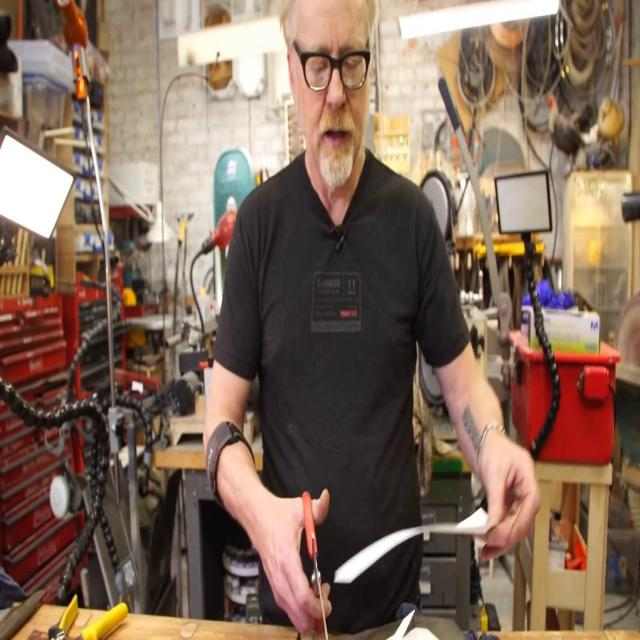scissor: (302, 490, 327, 640), (294, 623, 300, 624)
